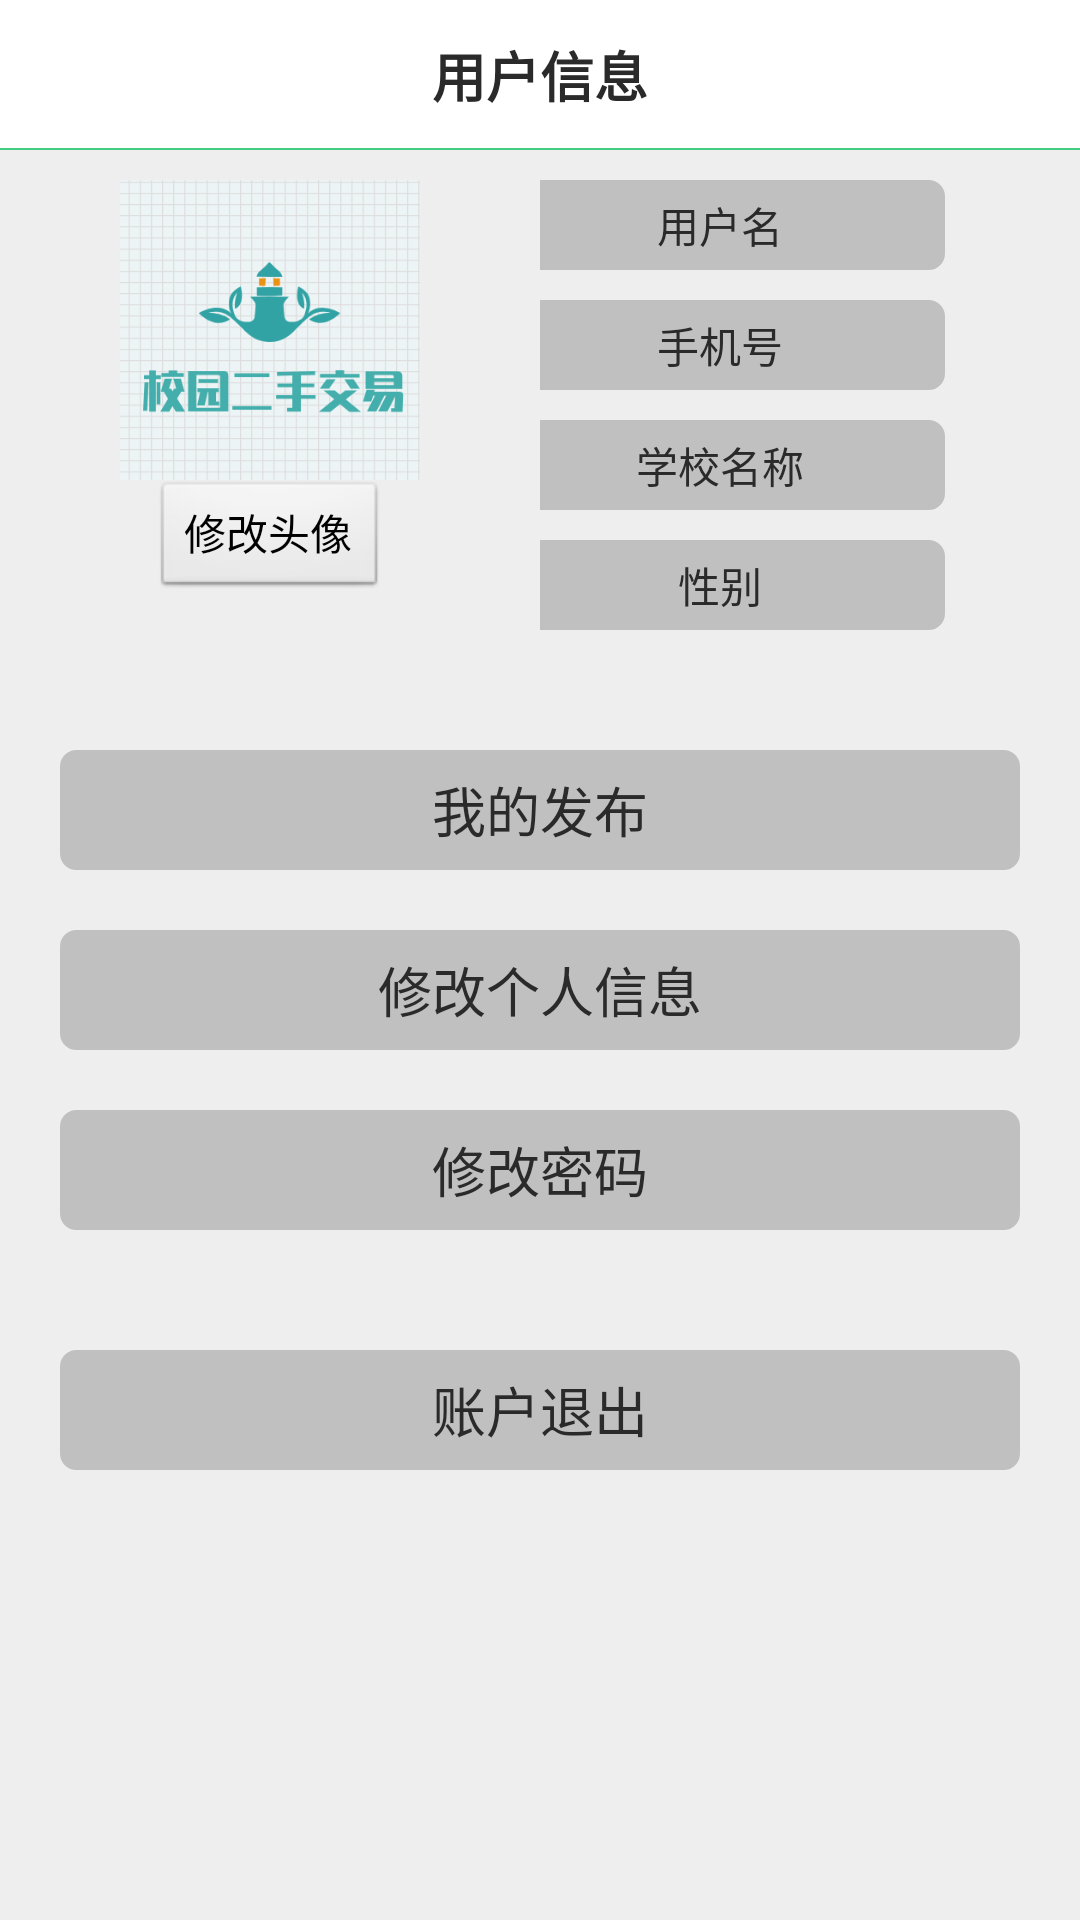

Icons on this 1080px x 1920px Android screen, each with its box as [x1, y1, x2, y2]:
log: [128, 182, 419, 473]
